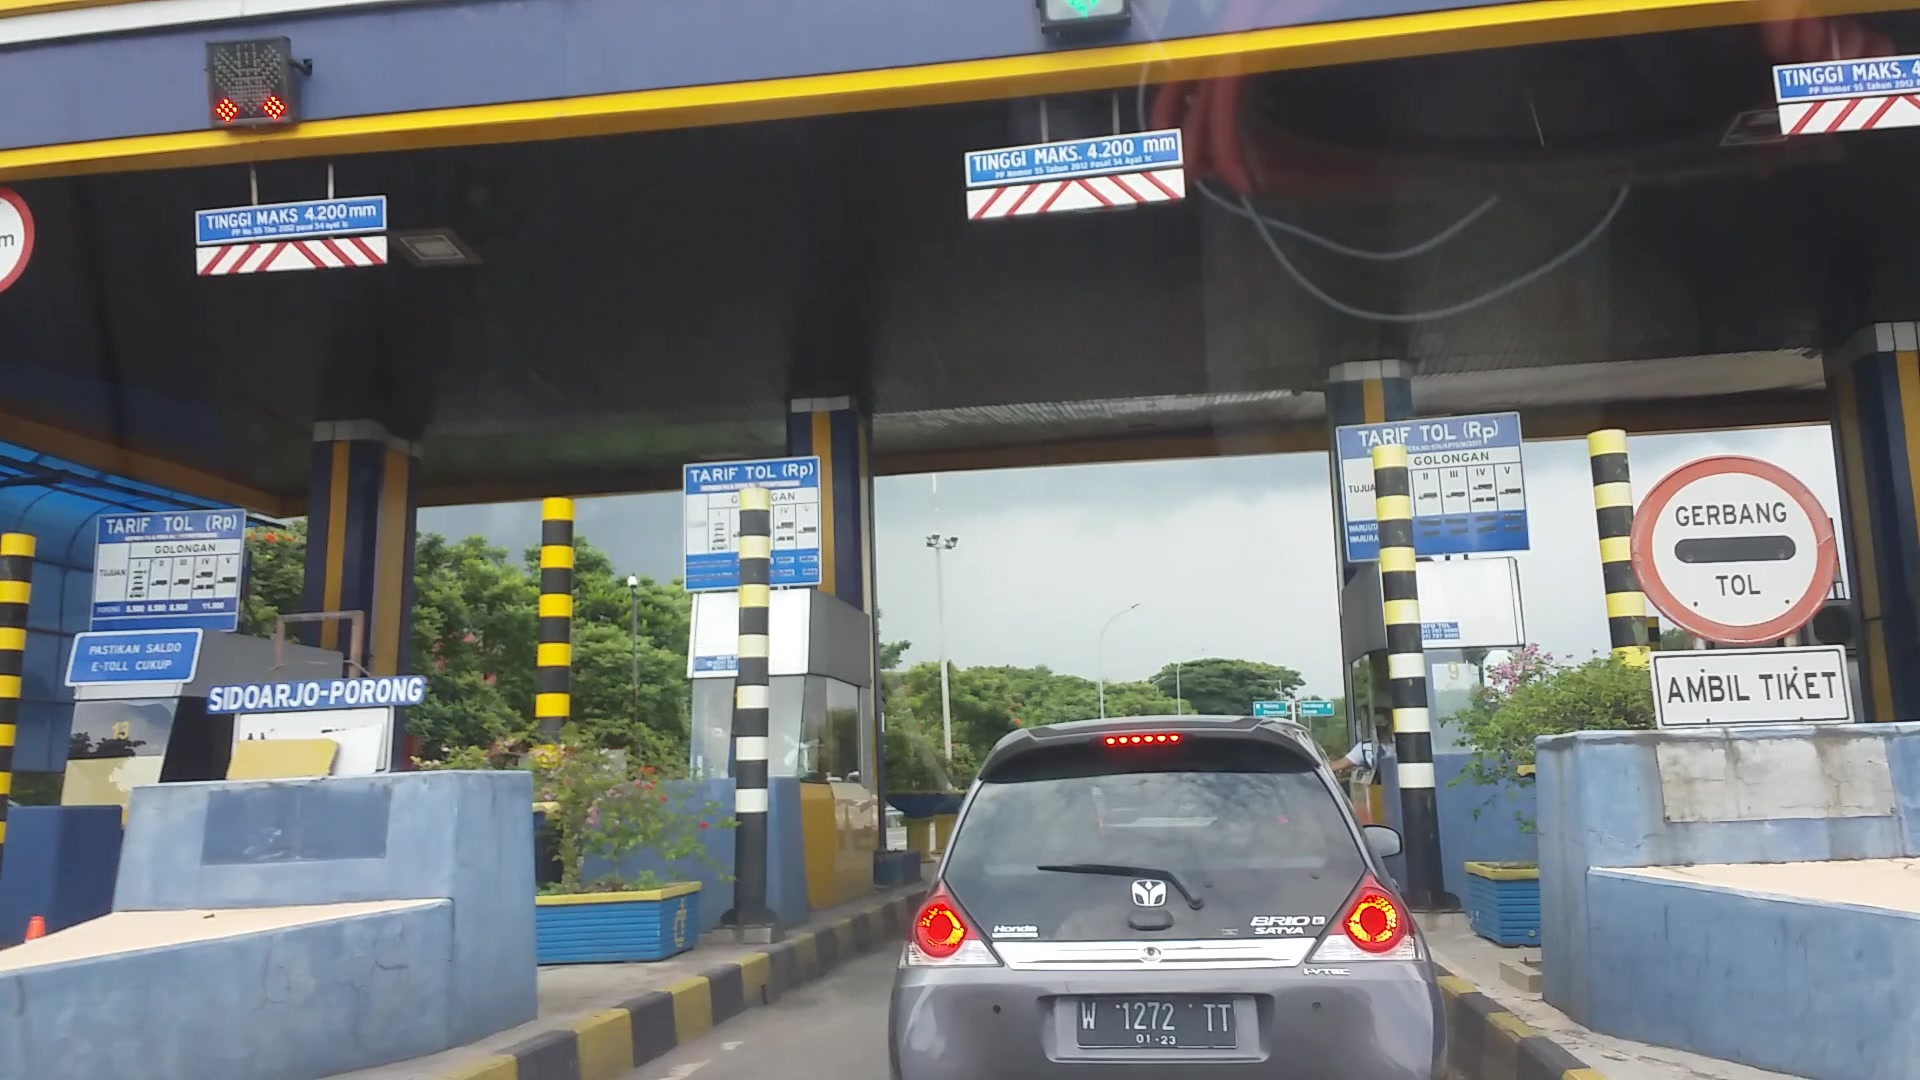plate_positive: (1077, 996, 1236, 1048)
